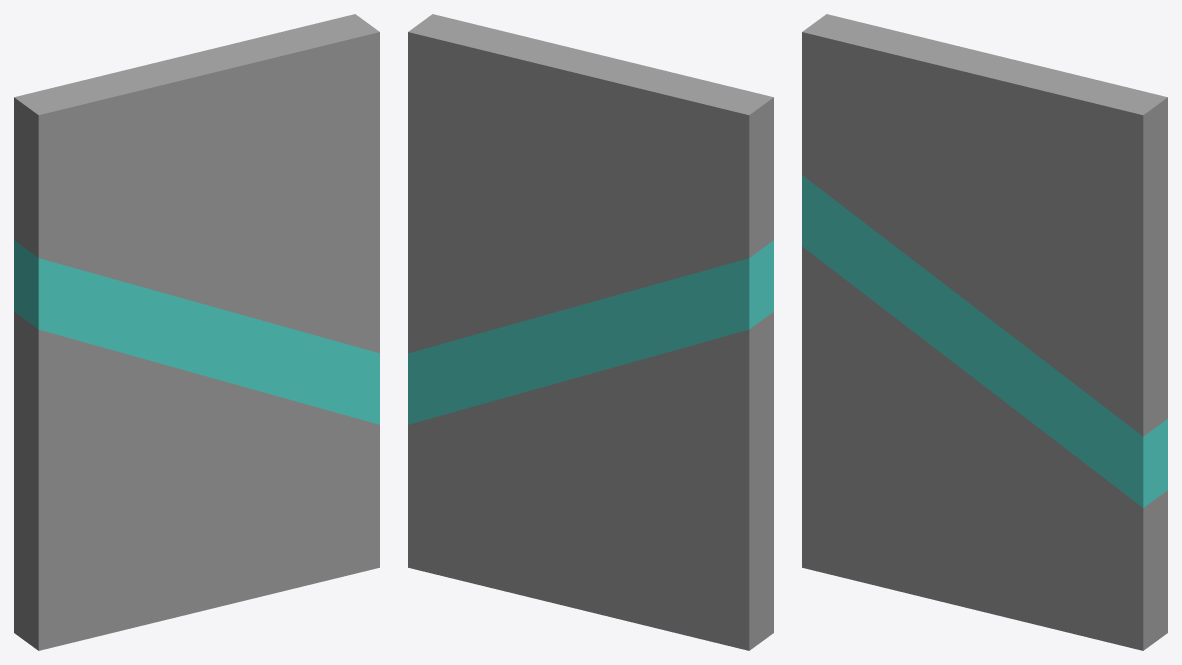
File: ModularWalkways_StairWallSmall.fbx
3 views of the same model, side by side, from view 1: azimuth 30°, elevation 25°; view 2: azimuth 150°, elevation 25°; view 3: azimuth 330°, elevation 25° (orthographic).
Visible parts, largest first — view 1: pCube25; view 2: pCube25; view 3: pCube25.
Boxes of the visible parts, box(x1,y1,x2,y2) form: pCube25: box(14, 14, 379, 650); pCube25: box(408, 14, 773, 650); pCube25: box(802, 14, 1167, 650).
Bounding box in the file's own units: 800 × 1200 × 100.
